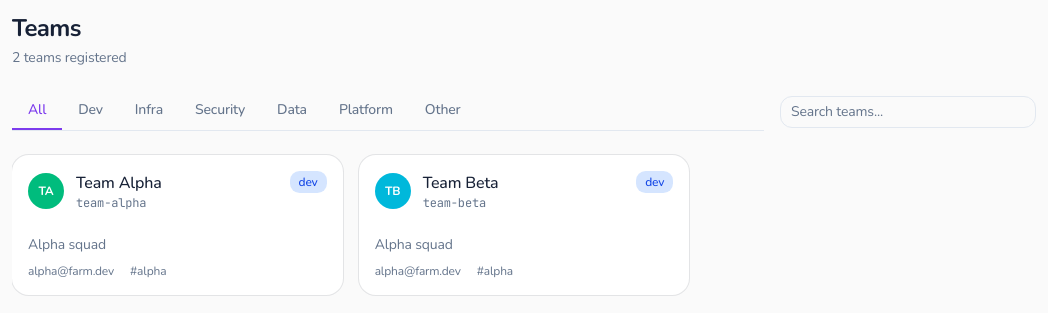
Test: TeamsPage › should filter teams by search
Expected: the text "Team Alpha" is shown, [76, 171, 162, 195]
Type "beta" into the field with placeholder "Search teams...".
click(908, 112); type("beta")  # box [780, 96, 1036, 128]
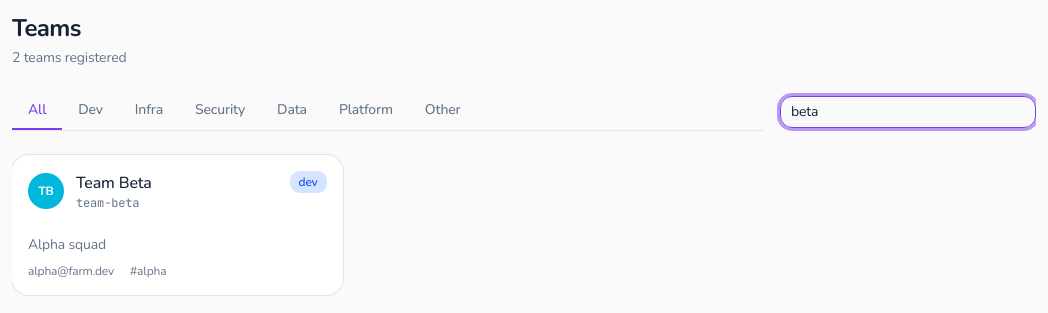
Expected: the text "Team Beta" is shown, [76, 171, 152, 195]
Expected: the link "Team Alpha" is gone
